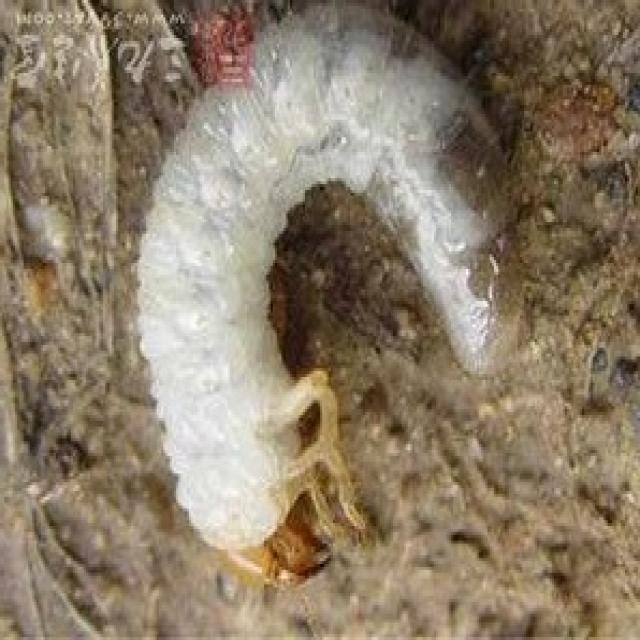grub: (112, 4, 531, 600)
